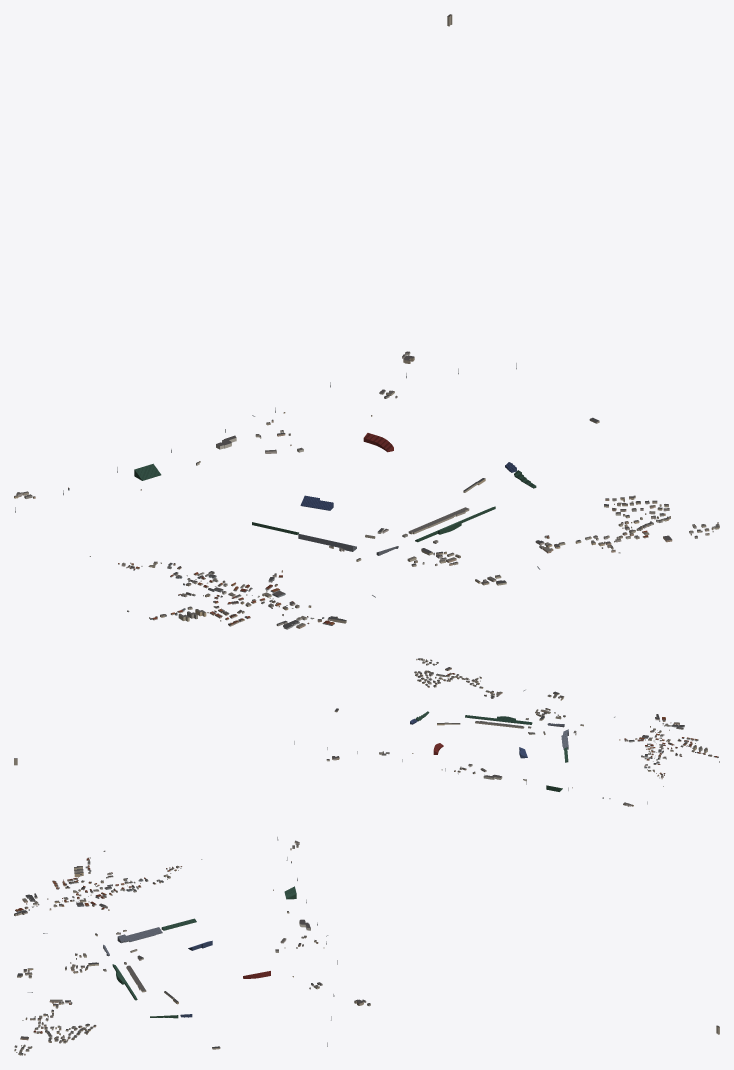
File: scenery.glb
The picture shows the model from 3 angles, top to bottom: view 1: azimuth 30°, elevation 25°; view 2: azimuth 150°, elevation 25°; view 3: azimuth 270°, elevation 25°; orthographic projection. The views are drawn at different scales.
Visible parts, largest first — view 1: chunk_15_16, chunk_13_16; view 2: chunk_15_16, chunk_13_16, chunk_12_16, chunk_14_15; view 3: chunk_14_15, chunk_13_16, chunk_15_16, chunk_12_16.
Boxes of the visible parts, <box> form: chunk_15_16: <box>402,506,495,565</box>; chunk_13_16: <box>197,570,299,618</box>; chunk_15_16: <box>465,708,561,728</box>; chunk_13_16: <box>619,728,684,758</box>; chunk_12_16: <box>654,737,719,762</box>; chunk_14_15: <box>519,729,568,762</box>; chunk_14_15: <box>117,918,212,950</box>; chunk_13_16: <box>53,884,136,910</box>; chunk_15_16: <box>65,953,146,1000</box>; chunk_12_16: <box>54,850,135,887</box>.
Size of the model in its own units: 3189 by 560 by 3519.
